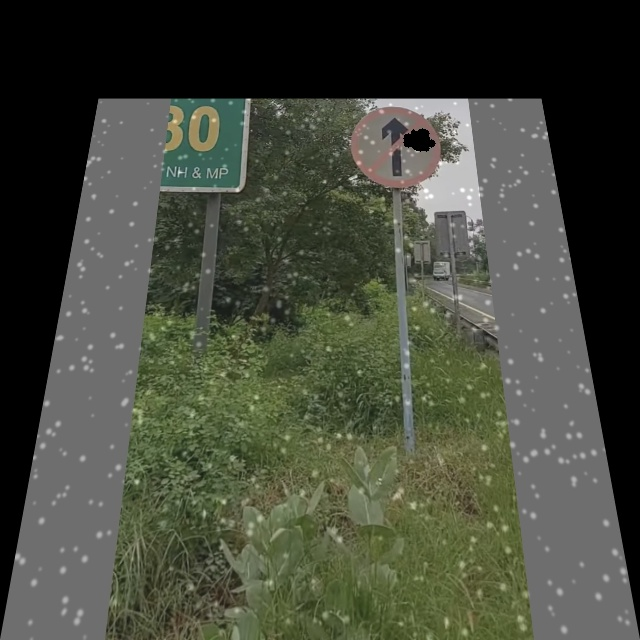No_Entry: (348, 108, 444, 188)
